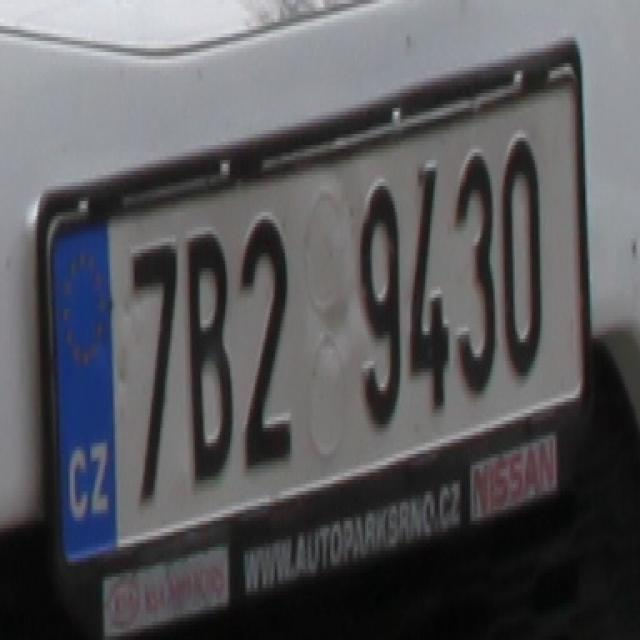0: (500, 134, 543, 387)
2: (236, 212, 296, 465)
3: (452, 142, 500, 398)
4: (407, 164, 455, 406)
7: (126, 231, 176, 502)
9: (357, 178, 405, 420)
B: (185, 227, 235, 487)
